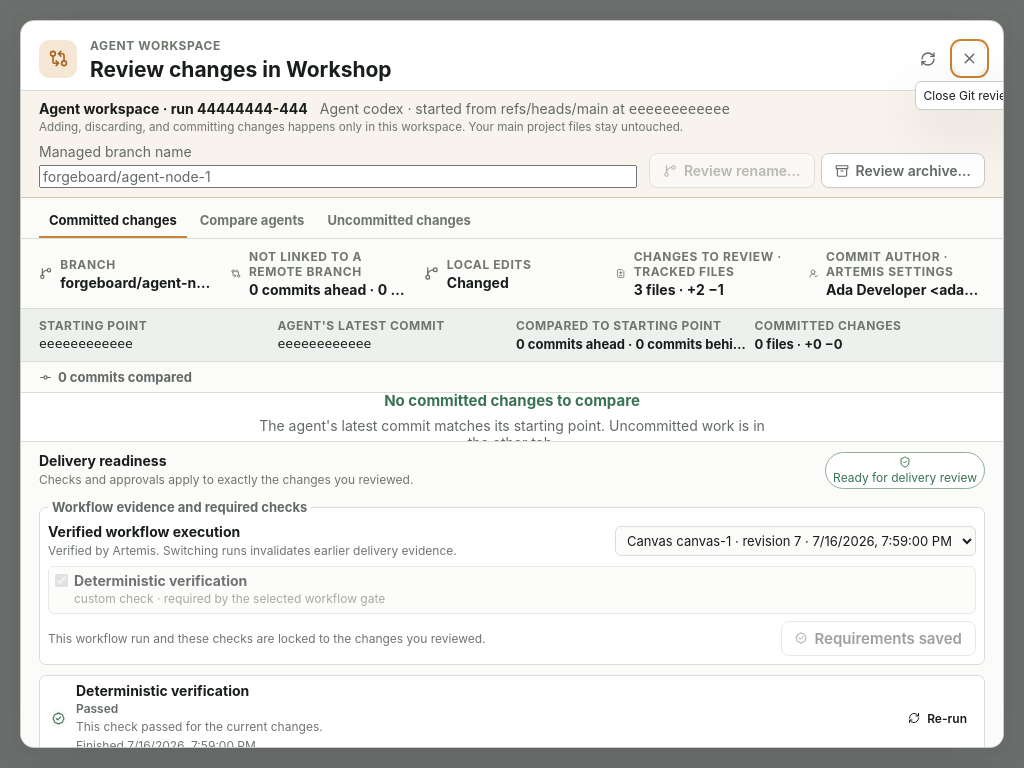
Test: GitReviewDialog › shows an honest empty committed comparison while preserving working-tree changes
Check: the text "No committed changes to compare" is shown, box [384, 390, 640, 410]
Check: the text "Uncommitted work is in the other tab" is shown, box [259, 416, 765, 450]
What coordinates should you click on to do the following:
click the tab "Uncommitted changes"
I would click on:
 (399, 222)
Its box is [317, 205, 481, 238].
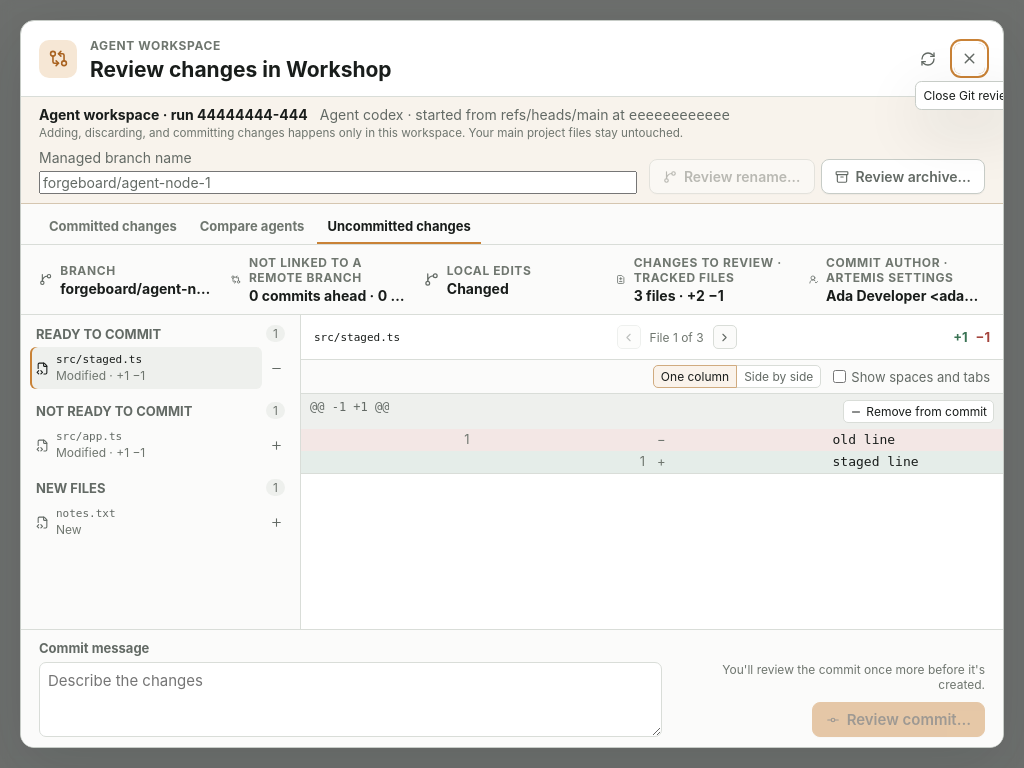
Check: the button "src/app.ts Modified · +1 −1" is shown, box [30, 424, 262, 466]
